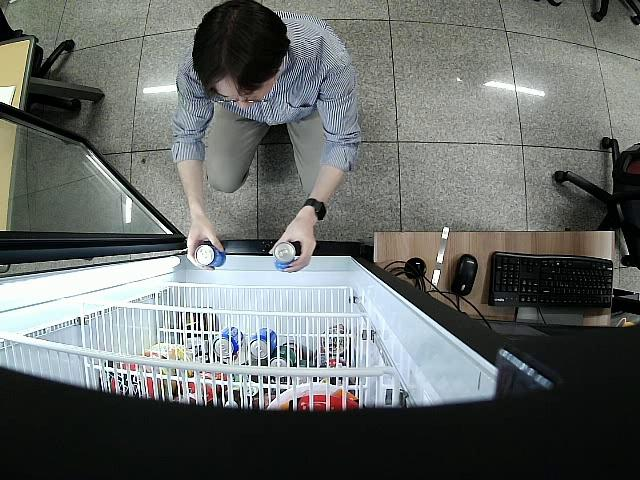00_hand: (267, 231, 318, 274), (185, 224, 225, 274)
15_letsbe: (271, 242, 297, 274), (195, 246, 225, 270)
